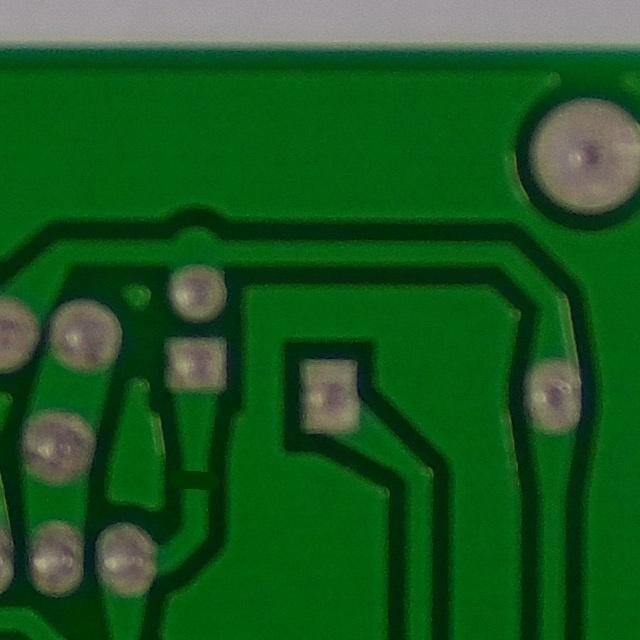open_circuit: (173, 449, 220, 511)
